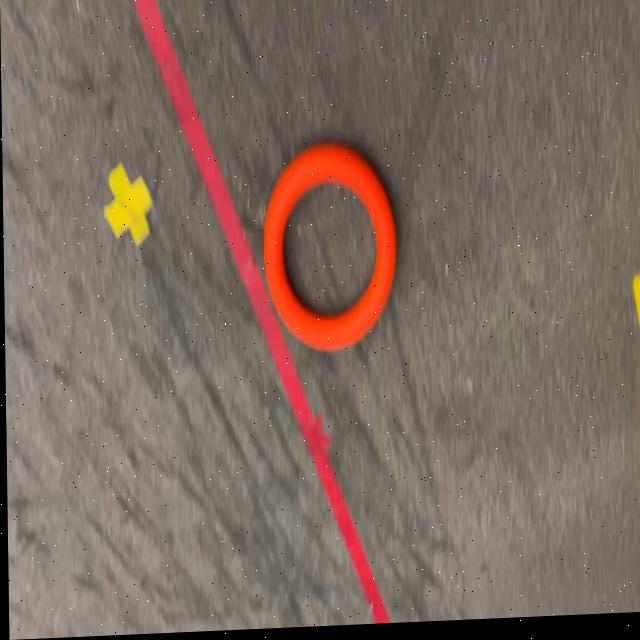note: (261, 145, 396, 354)
